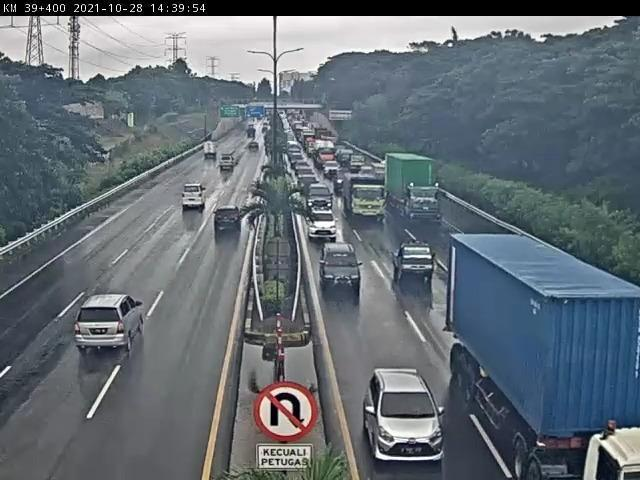car: (363, 368, 449, 463), (73, 294, 143, 350), (321, 243, 362, 287), (393, 243, 435, 279), (309, 209, 337, 238), (180, 185, 207, 214), (215, 208, 243, 235), (307, 186, 332, 213), (299, 173, 320, 194), (219, 153, 237, 173)
truck: (450, 235, 640, 480), (388, 155, 443, 219), (341, 173, 387, 217)
